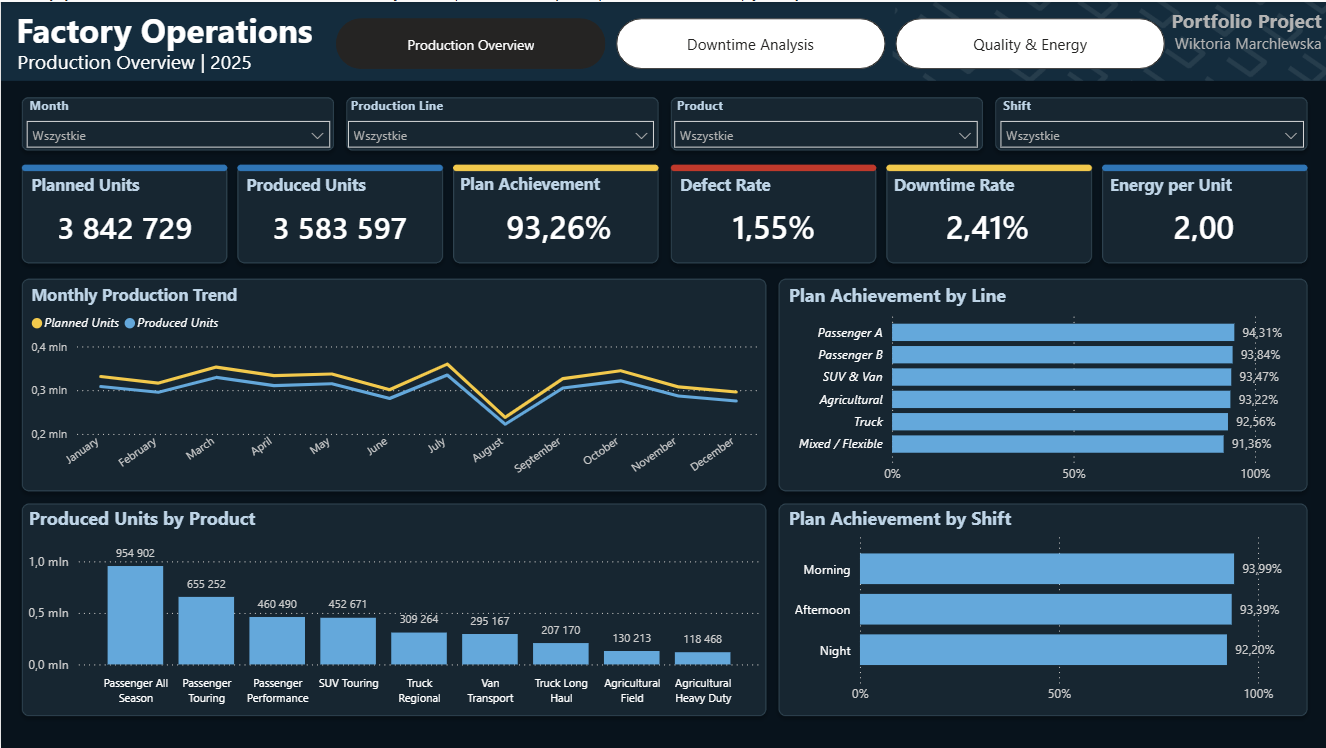

Layout of this report page (visuals, bound fields, positions):
{"tool":"powerbi","page":{"name":"Production Overview","canvas":[1280,720],"ordinal":1},"visuals":[{"type":"textbox","box":[10,0,314.3,55.7],"z":0},{"type":"textbox","box":[11,40,257.1,44.3],"z":1000},{"type":"textbox","box":[1080,0,200,62.9],"z":2000},{"type":"slicer","fields":{"Values":["dim_date.month_name"]},"box":[14,87,313,58],"z":3000},{"type":"slicer","fields":{"Values":["dim_product.product_name"]},"box":[640,87,313,55],"z":4000},{"type":"slicer","fields":{"Values":["dim_line.line_name"]},"box":[324.3,87,315.7,57.1],"z":5000},{"type":"slicer","fields":{"Values":["dim_shift.shift_name"]},"box":[954,87,312.9,57.1],"z":6000},{"type":"cardVisual","title":"Planned Units","fields":{"Data":["_Measures.Planned Units"]},"box":[24.3,165.7,191.4,82.9],"z":7000},{"type":"cardVisual","title":"Produced Units","fields":{"Data":["_Measures.Produced Units"]},"box":[231.4,165.7,191.4,82.9],"z":8000},{"type":"cardVisual","title":"Plan Achievement","fields":{"Data":["_Measures.Production Plan Achievement %"]},"box":[438,164,201.4,86],"z":9000},{"type":"cardVisual","title":"Defect Rate","fields":{"Data":["_Measures.Defect Rate %"]},"box":[650,165.7,191.4,82.9],"z":10000},{"type":"cardVisual","title":"Downtime Rate","fields":{"Data":["_Measures.Downtime Rate %"]},"box":[857.1,165.7,191.4,82.9],"z":11000},{"type":"cardVisual","title":"Energy per Unit","fields":{"Data":["_Measures.Energy per Unit kWh"]},"box":[1065.7,165.7,191.4,82.9],"z":12000},{"type":"lineChart","title":"Monthly Production Trend","fields":{"Category":["dim_date.month_name"],"Y":["_Measures.Planned Units","_Measures.Produced Units"]},"box":[24.7,271,713,196],"z":13000},{"type":"clusteredBarChart","title":"Plan Achievement by Line","fields":{"Category":["dim_line.line_name"],"Y":["_Measures.Production Plan Achievement %"]},"box":[755,271,502.2,201.7],"z":14000},{"type":"clusteredColumnChart","title":"Produced Units by Product","fields":{"Category":["dim_product.product_name"],"Y":["_Measures.Produced Units"]},"box":[22,486,716,200.3],"z":15000},{"type":"clusteredBarChart","title":"Plan Achievement by Shift","fields":{"Category":["dim_shift.shift_name"],"Y":["_Measures.Production Plan Achievement %"]},"box":[755,486,502,200],"z":16000},{"type":"pageNavigator","box":[323.8,15.1,800,49.4],"z":17000}]}

Visuals, with their boxes in screenshot pixels (x1, y1, x2, y2), scaled from the page's 1280x720 canvas onto the 1326x748 screenshot:
textbox: x1=10 y1=0 x2=336 y2=58
textbox: x1=11 y1=42 x2=278 y2=88
textbox: x1=1119 y1=0 x2=1325 y2=65
slicer - dim_date.month_name: x1=15 y1=90 x2=339 y2=151
slicer - dim_product.product_name: x1=663 y1=90 x2=987 y2=148
slicer - dim_line.line_name: x1=336 y1=90 x2=663 y2=150
slicer - dim_shift.shift_name: x1=988 y1=90 x2=1312 y2=150
"Planned Units" cardVisual: x1=25 y1=172 x2=223 y2=258
"Produced Units" cardVisual: x1=240 y1=172 x2=438 y2=258
"Plan Achievement" cardVisual: x1=454 y1=170 x2=662 y2=260
"Defect Rate" cardVisual: x1=673 y1=172 x2=872 y2=258
"Downtime Rate" cardVisual: x1=888 y1=172 x2=1086 y2=258
"Energy per Unit" cardVisual: x1=1104 y1=172 x2=1302 y2=258
"Monthly Production Trend" lineChart: x1=26 y1=282 x2=764 y2=485
"Plan Achievement by Line" clusteredBarChart: x1=782 y1=282 x2=1302 y2=491
"Produced Units by Product" clusteredColumnChart: x1=23 y1=505 x2=765 y2=713
"Plan Achievement by Shift" clusteredBarChart: x1=782 y1=505 x2=1302 y2=713
pageNavigator: x1=335 y1=16 x2=1164 y2=67
